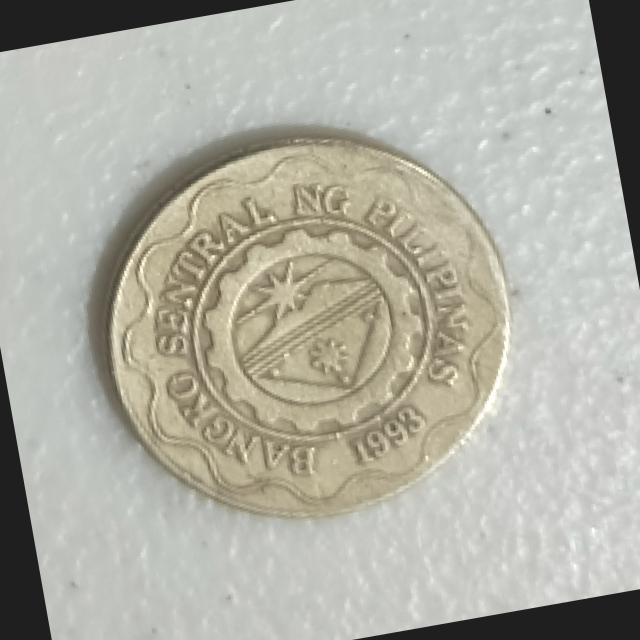5_peso: (106, 139, 506, 515)
